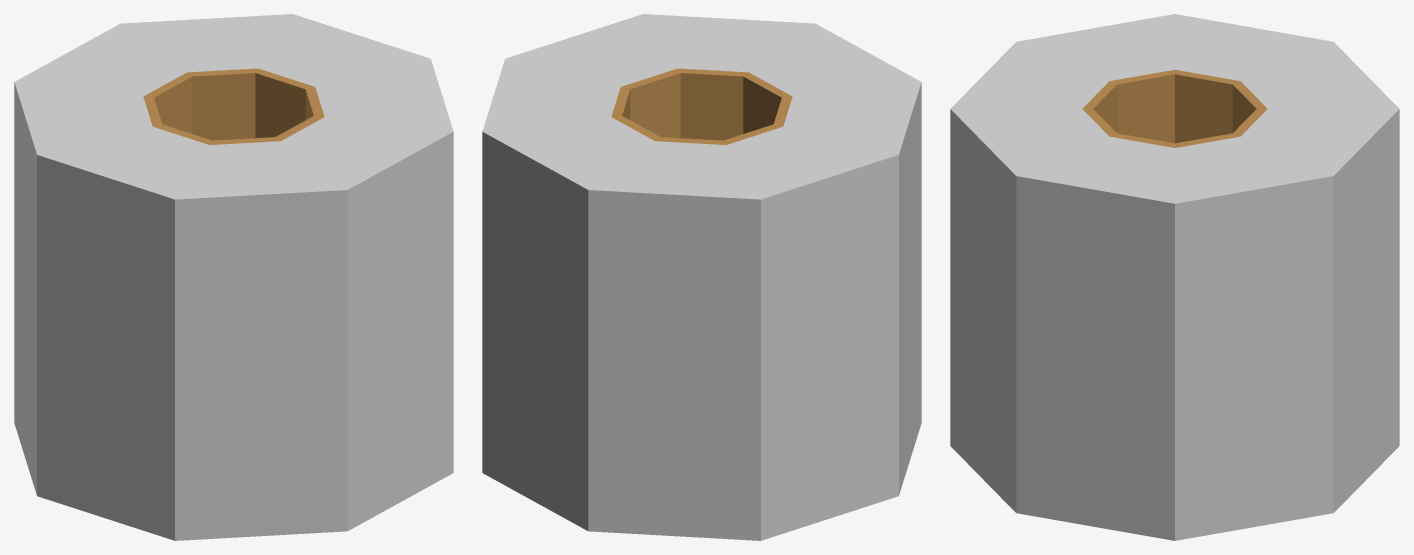
The model's file is toilet paper.fbx.
3 views of the same model, side by side, from view 1: azimuth 30°, elevation 25°; view 2: azimuth 150°, elevation 25°; view 3: azimuth 270°, elevation 25° (orthographic).
Parts seen in each view (by area): view 1: Cube; view 2: Cube; view 3: Cube.
Part boxes in pixels (x1,y1,x2,y2): Cube: [14, 14, 453, 540]; Cube: [482, 14, 921, 540]; Cube: [950, 14, 1399, 540].
Bounding box in the file's own units: 241 × 200 × 241.
